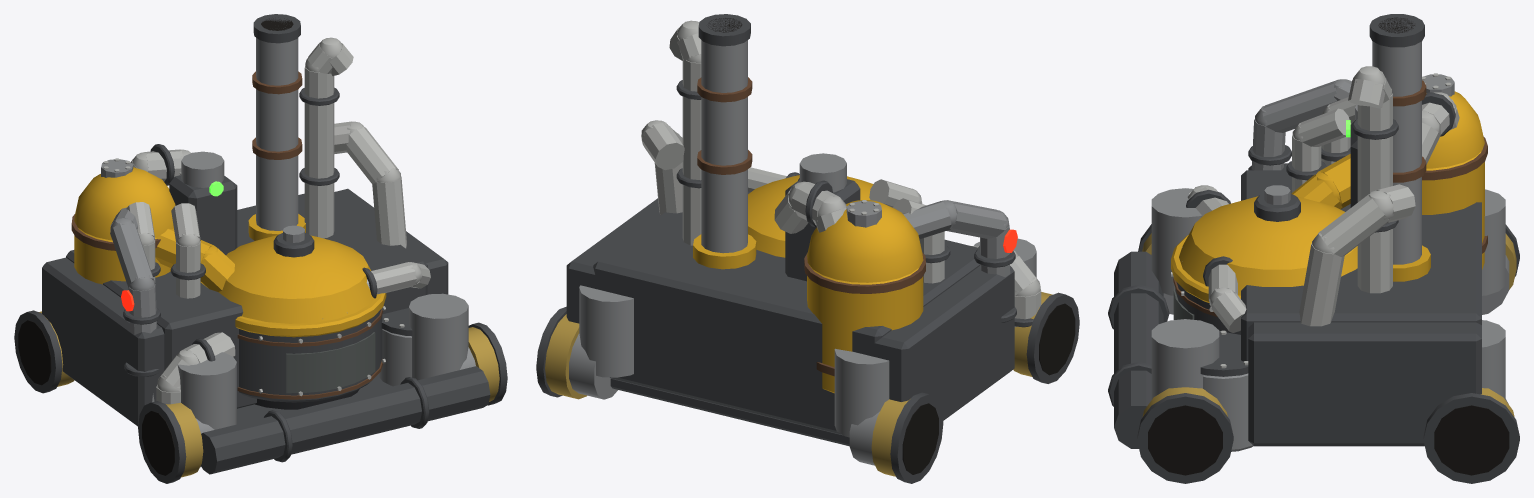
File: chemical-plant-east.glb
The picture shows the model from 3 angles, left to right: view 1: azimuth 30°, elevation 25°; view 2: azimuth 150°, elevation 25°; view 3: azimuth 270°, elevation 25°; orthographic projection. The views are drawn at different scales.
Visible parts, largest first — view 1: body; view 2: body; view 3: body.
Part boxes in pixels (bbox=[...]): body: bbox=[14, 14, 507, 483]; body: bbox=[536, 14, 1079, 483]; body: bbox=[1108, 14, 1519, 483].
Bounding box in the file's own units: 3.01 × 2.96 × 2.82.
